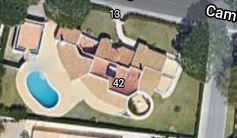pool: (27, 73, 59, 104)
